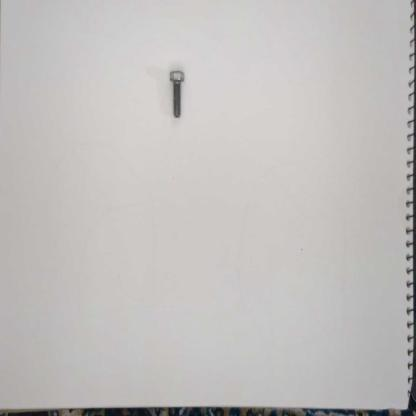Bolts: (165, 65, 190, 123)
